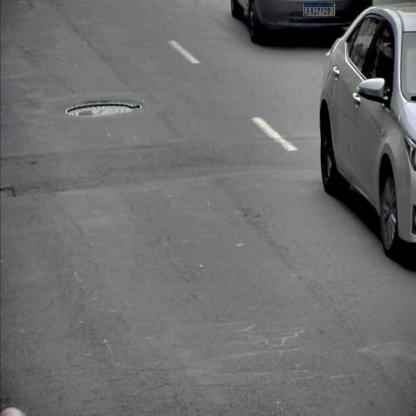PlacaM: (304, 2, 334, 16)
